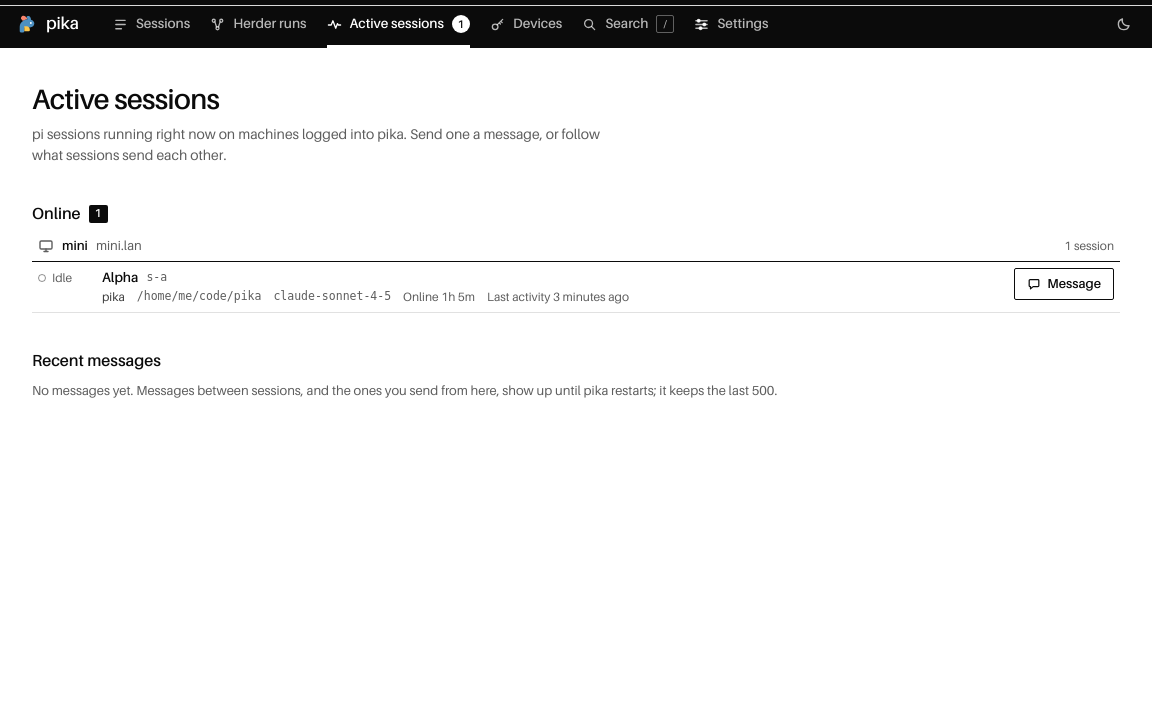
Test: message composer › shows a rate_limited refusal as a readable reason and keeps the text
Click the button with aria-label "Message Alpha": (1064, 284) 1014,268 -> 1114,300
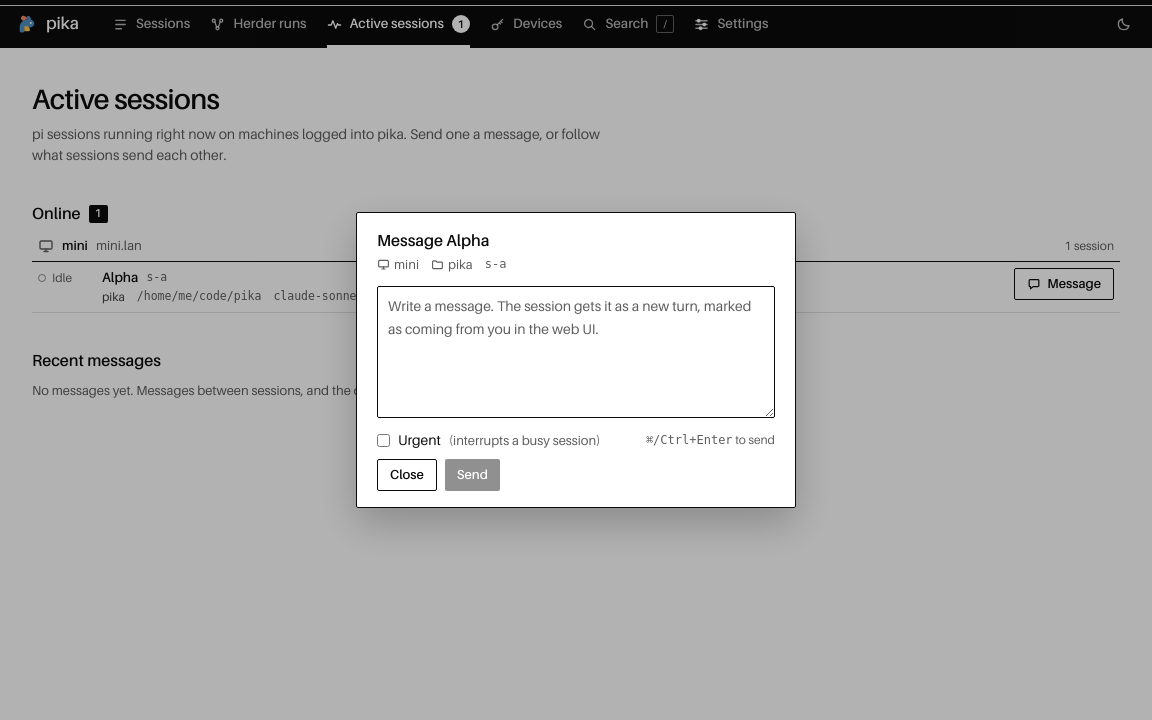
Replace the text in the text box named "Message text" with "Hello": (576, 352) 377,286 -> 775,418
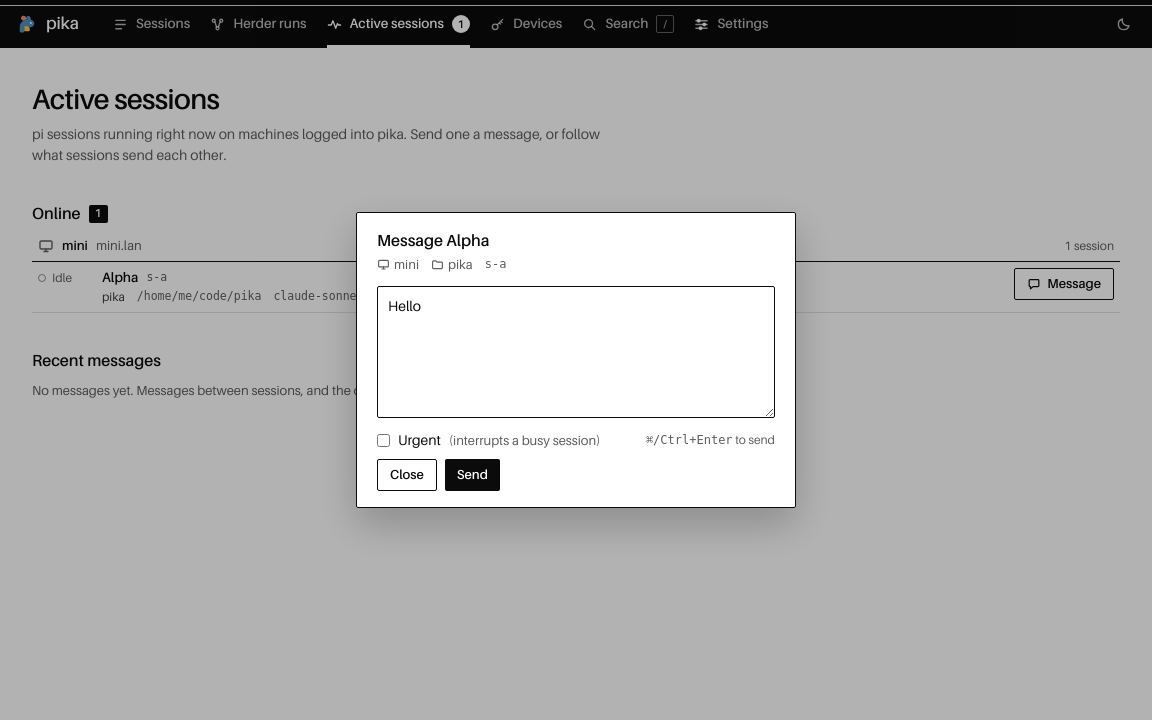
Click the button "Send": (472, 475) 445,459 -> 500,491
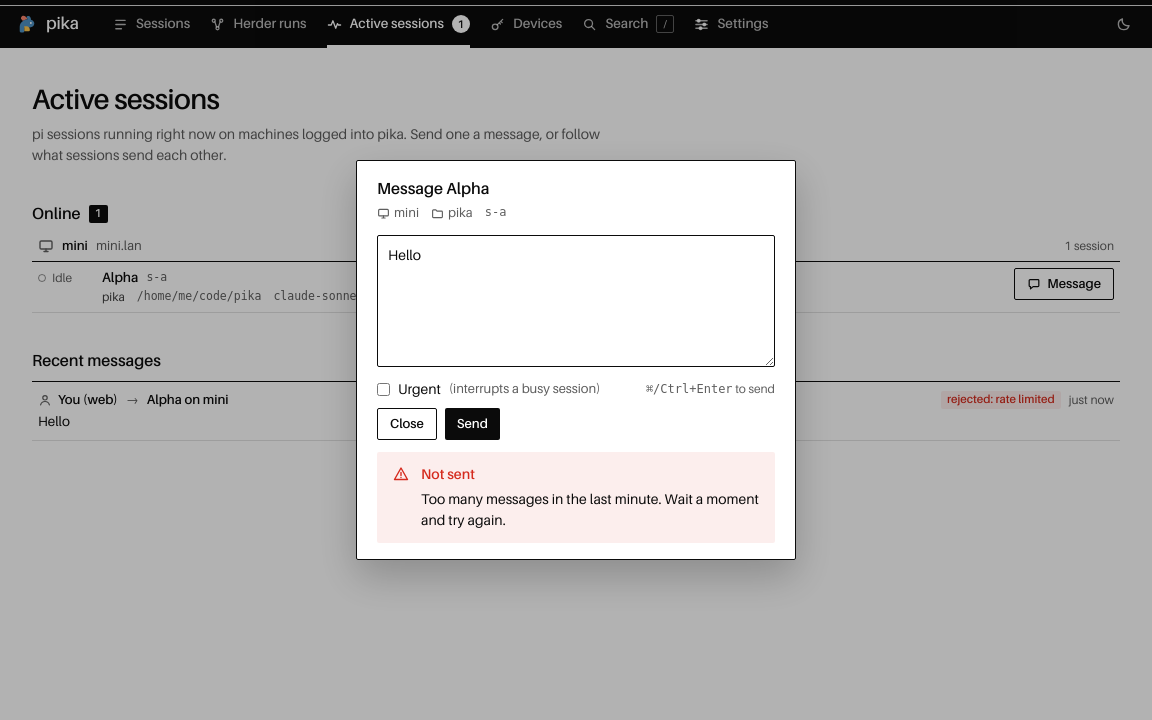
Now the message shows "Not sent", box 421,466 -> 475,482
Now the message shows "Too many messages in the last minute. Wait a moment and try again.", box 421,491 -> 759,528
